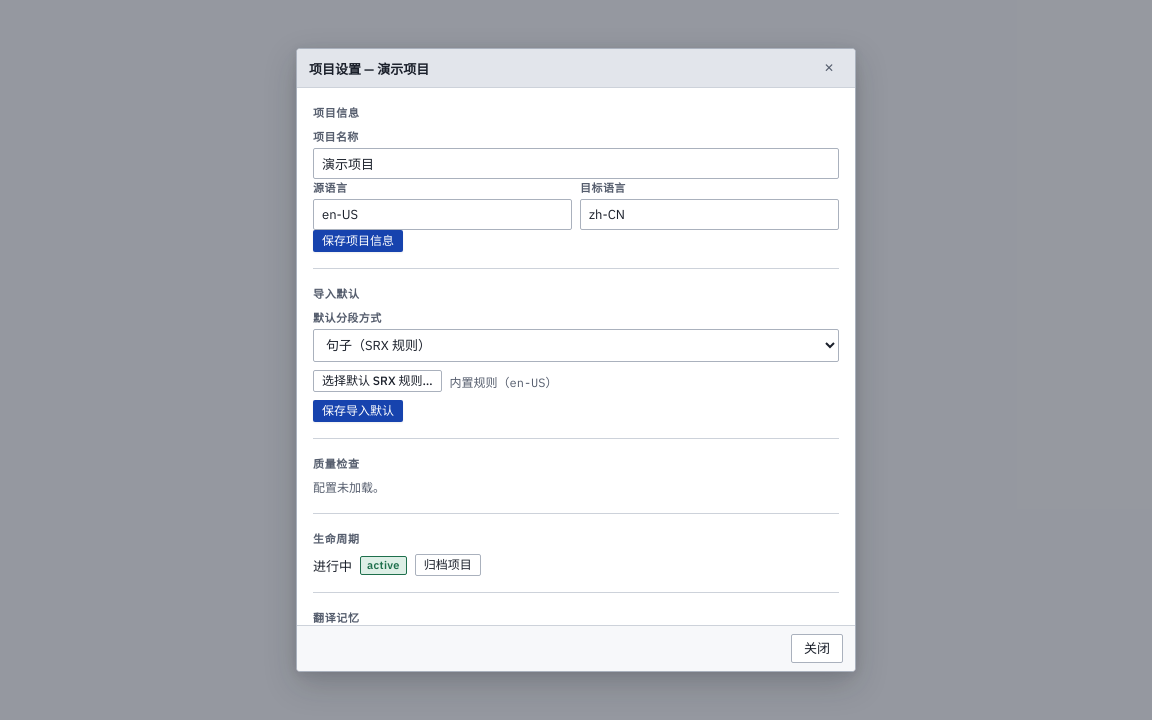
Test case: ProjectSettingsDialog › saves sentence import defaults with a picked SRX ruleset
Click the button "选择默认 SRX 规则…": {"x": 377, "y": 381} top-left (313, 370), bottom-right (442, 392)
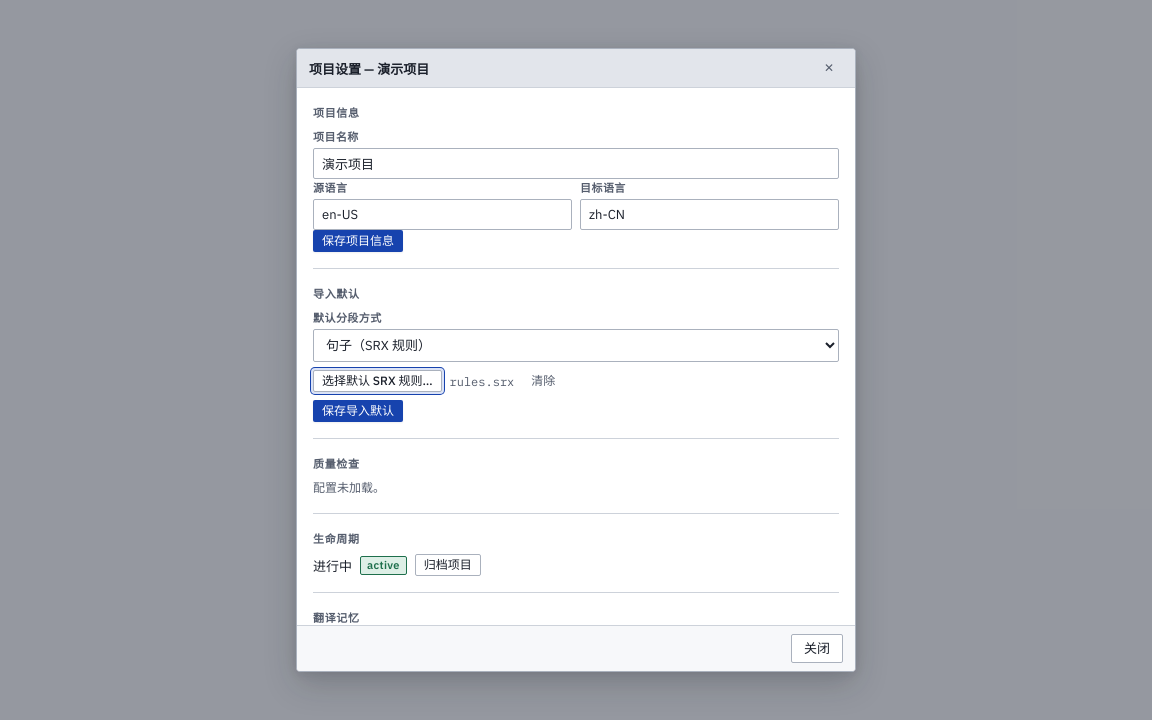
Now the text "rules.srx" is shown, box top-left (450, 374), bottom-right (514, 388)
Click the button "保存导入默认": {"x": 358, "y": 411} top-left (313, 400), bottom-right (403, 422)
(page scrolled)
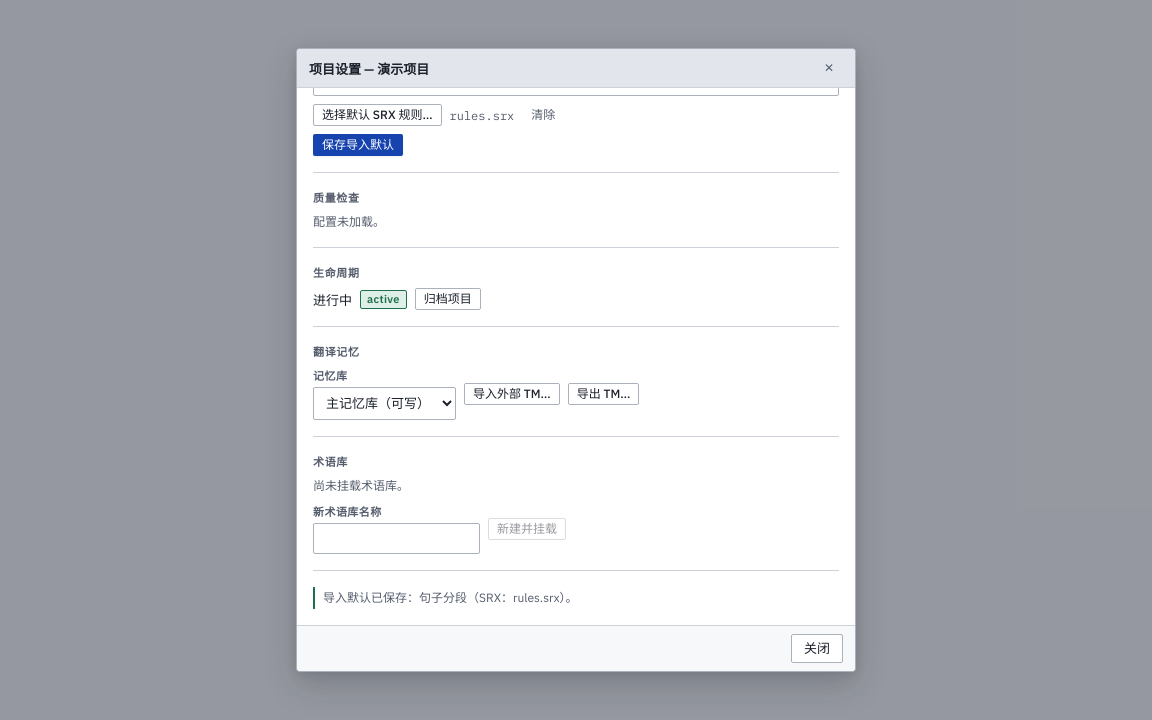
Now the text "导入默认已保存：句子分段（SRX：rules.srx）。" is shown, box top-left (313, 587), bottom-right (839, 609)
